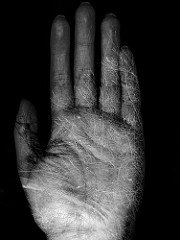palm: (36, 123, 140, 232)
